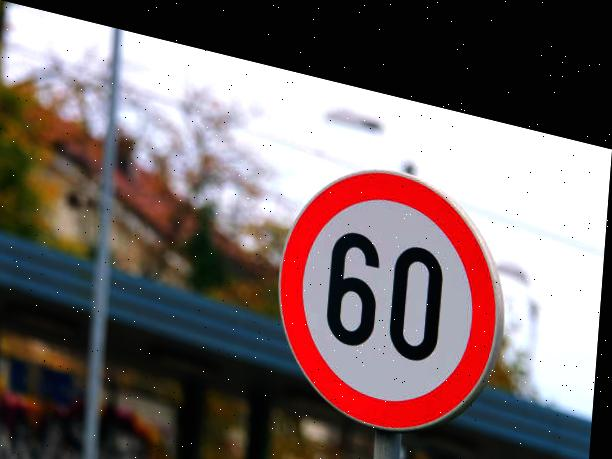Speed Limit -60-: (273, 127, 509, 429)
